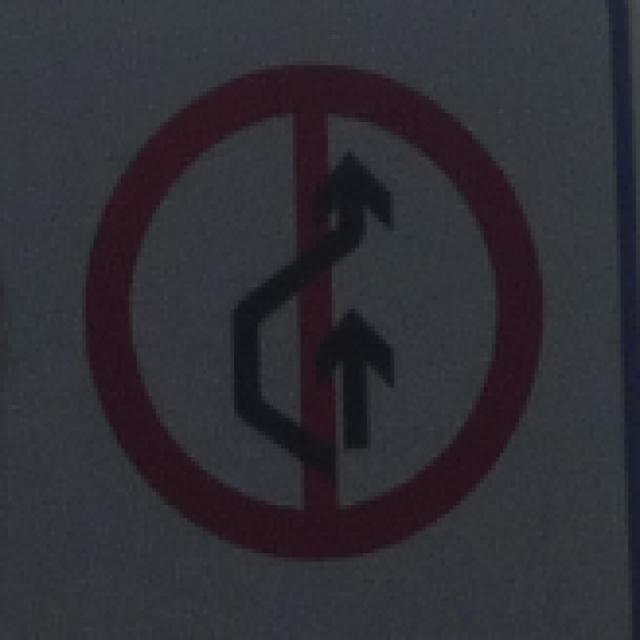Not that Direction: (91, 60, 541, 568)
